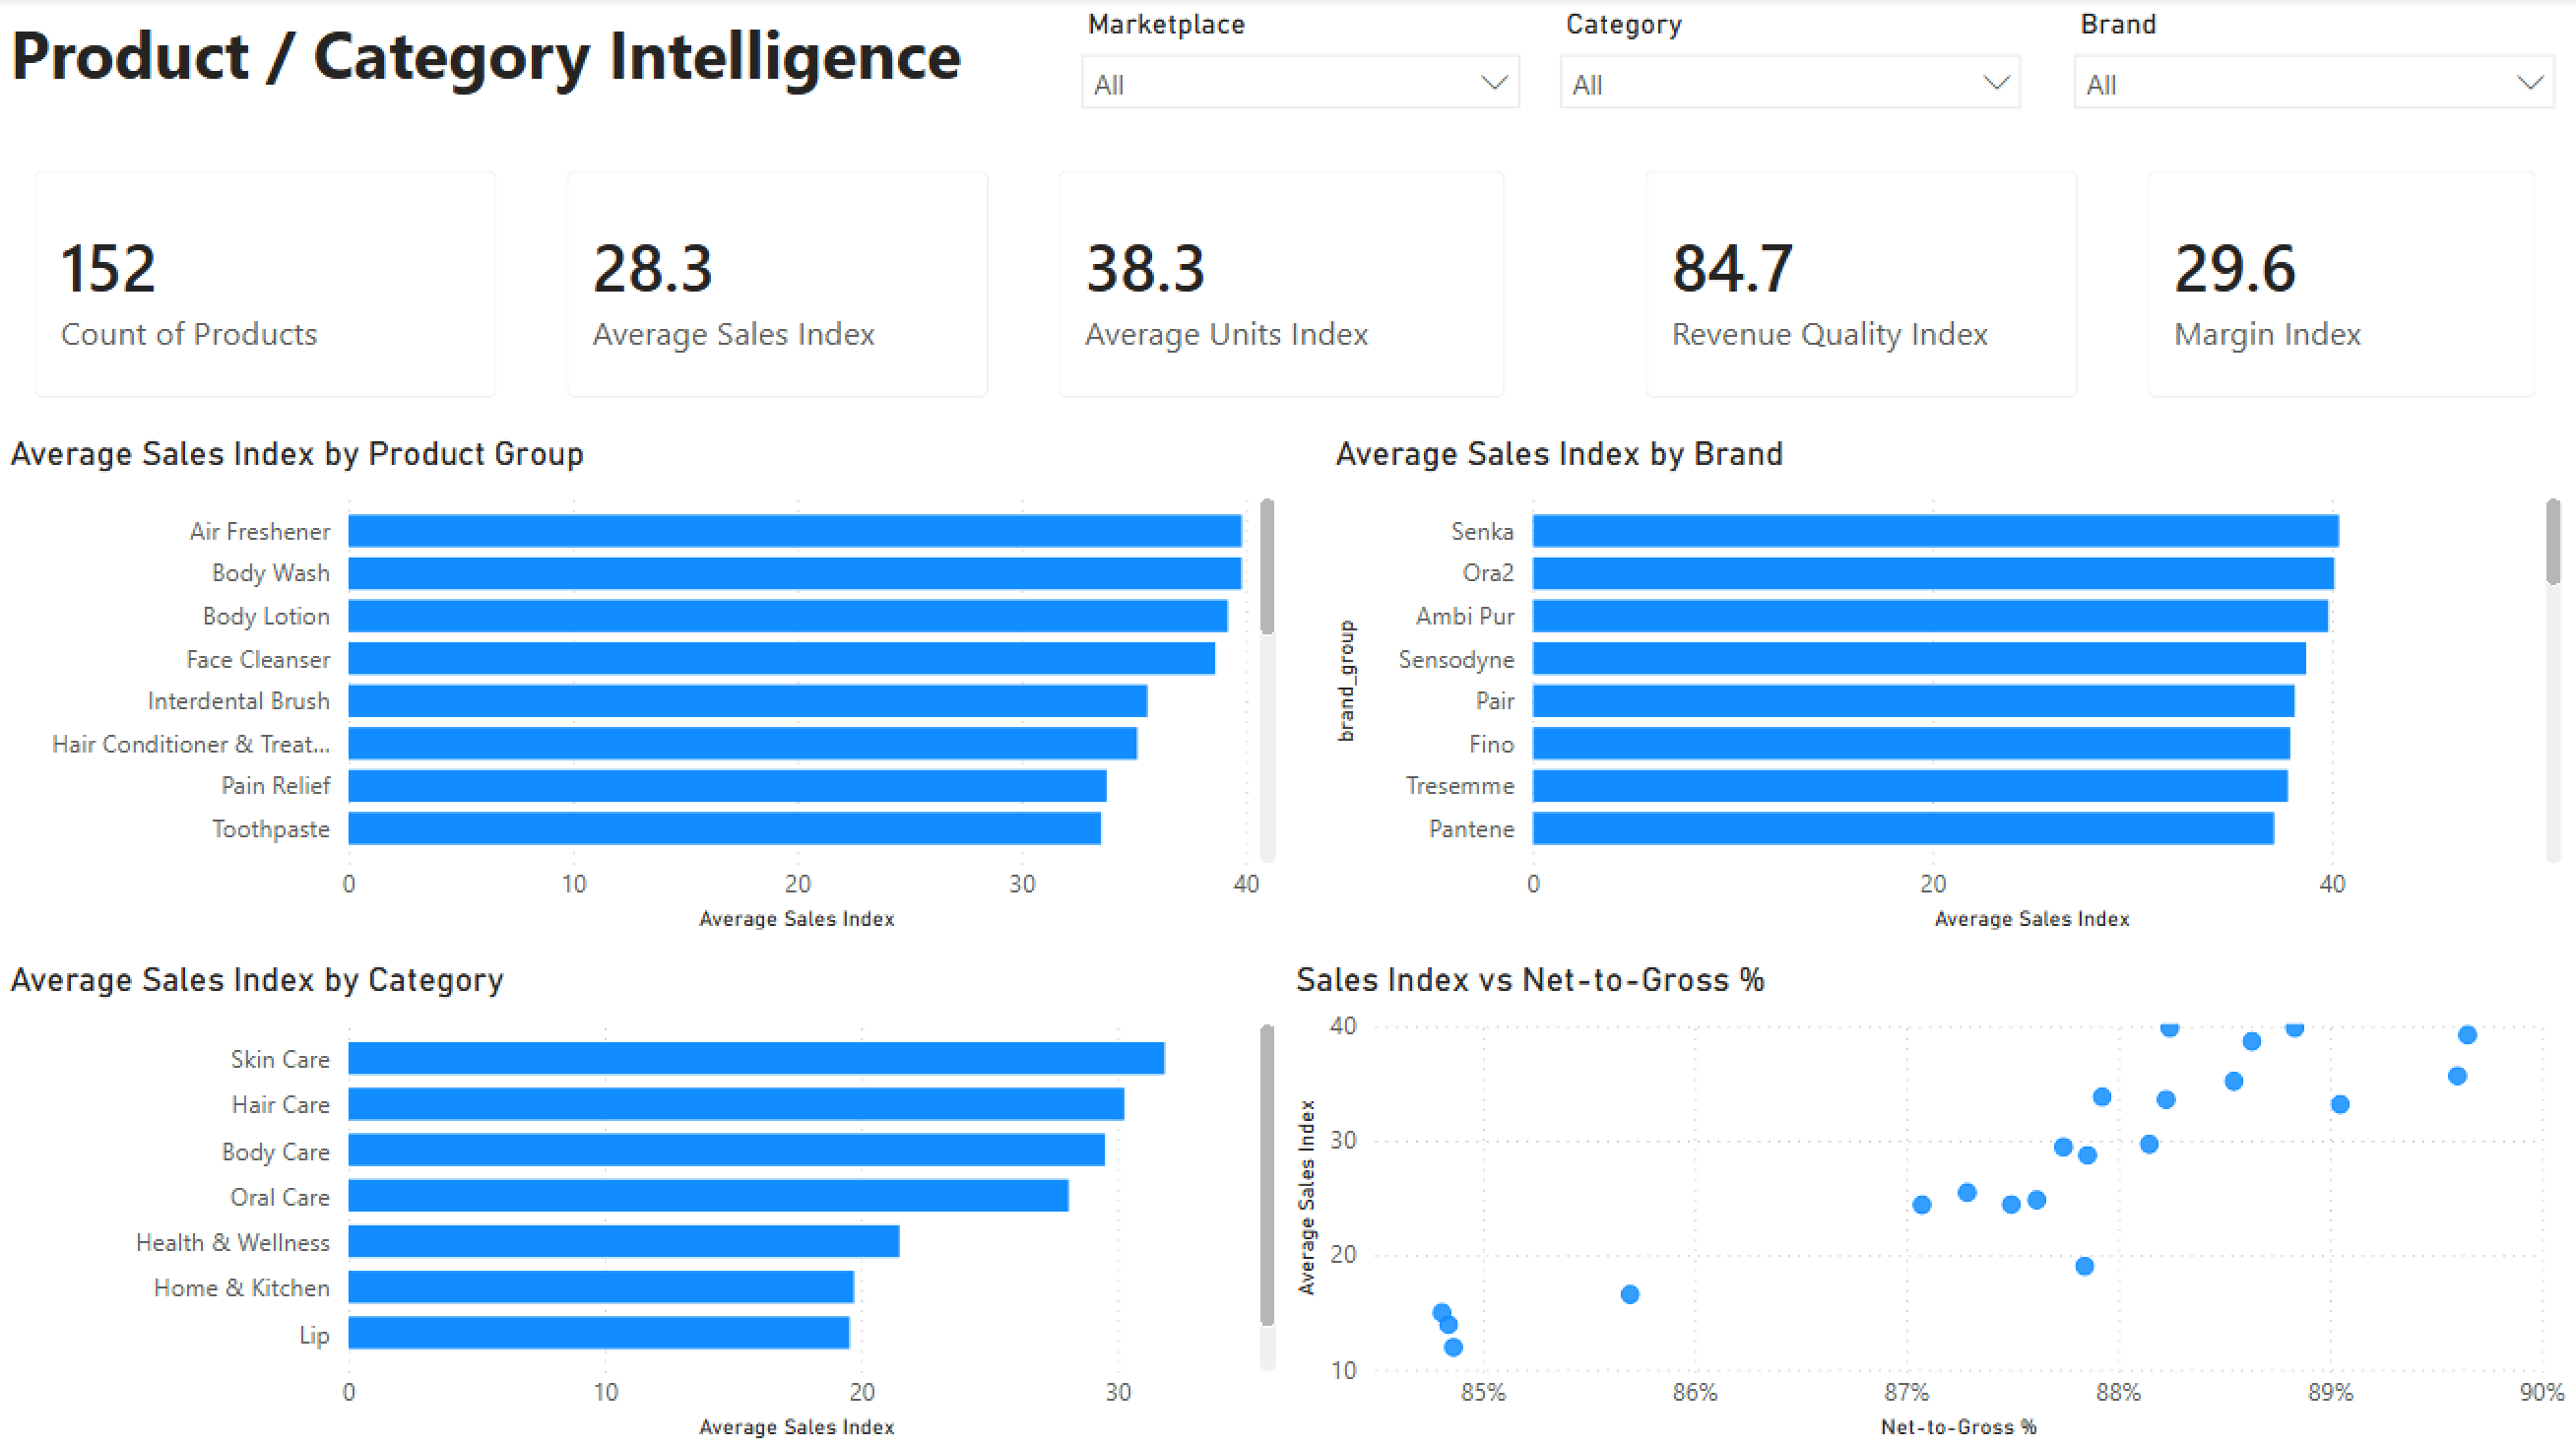

The dashboard page shown, as its layout file describes it:
{"tool":"powerbi","page":{"name":"Product / Category Intelligence","canvas":[1280,720],"ordinal":2},"visuals":[{"type":"textbox","box":[0,0,527.3,68.5],"z":0},{"type":"slicer","fields":{"Values":["DimMarketplace.marketplace"]},"box":[527.3,0,237.7,68.5],"z":1000},{"type":"slicer","fields":{"Values":["DimProduct.category_group"]},"box":[765,0,249.5,68.5],"z":2000},{"type":"slicer","fields":{"Values":["DimProduct.brand_group"]},"box":[1020.3,0,259.2,68.5],"z":3000},{"type":"cardVisual","fields":{"Data":["Measures (2).Count of Products"]},"box":[0,68.5,264.1,147.7],"z":4000},{"type":"cardVisual","fields":{"Data":["Measures (2).Average Sales Index"]},"box":[264.1,68.5,244.6,147.7],"z":5000},{"type":"cardVisual","fields":{"Data":["Measures (2).Average Units Index"]},"box":[508.7,68.5,256.3,147.7],"z":6000},{"type":"cardVisual","fields":{"Data":["Measures (2).Revenue Quality Score"]},"box":[800.2,68.5,249.5,147.7],"z":7000},{"type":"cardVisual","fields":{"Data":["Measures (2).Margin Index"]},"box":[1049.7,68.5,227.9,147.7],"z":8000},{"type":"clusteredBarChart","title":"Average Sales Index by Product Group","fields":{"Category":["DimProduct.product_group"],"Y":["Measures (2).Average Sales Index"]},"box":[0,216.2,638.8,251.4],"z":10000},{"type":"clusteredBarChart","title":"Average Sales Index by Category","fields":{"Category":["DimProduct.category_group"],"Y":["Measures (2).Average Sales Index"]},"box":[0,477.4,638.8,242.6],"z":11000},{"type":"scatterChart","title":"Sales Index vs Net-to-Gross %","fields":{"X":["Measures (2).Net-to-Gross %"],"Y":["Measures (2).Average Sales Index"],"Category":["DimProduct.product_group"]},"box":[638.8,477.4,640.8,242.6],"z":12000},{"type":"clusteredBarChart","title":"Average Sales Index by Brand","fields":{"Category":["DimProduct.brand_group"],"Y":["Measures (2).Average Sales Index"]},"box":[658.4,216.2,619.2,251.4],"z":13000}]}

Visuals, with their boxes in screenshot pixels (x1, y1, x2, y2), scaled from the page's 1280x720 canvas onto the 2576x1448 screenshot:
textbox: left=0, top=0, right=1062, bottom=138
slicer - DimMarketplace.marketplace: left=1062, top=0, right=1539, bottom=138
slicer - DimProduct.category_group: left=1539, top=0, right=2041, bottom=138
slicer - DimProduct.brand_group: left=2053, top=0, right=2575, bottom=138
cardVisual - Measures (2).Count of Products: left=0, top=138, right=532, bottom=434
cardVisual - Measures (2).Average Sales Index: left=532, top=138, right=1024, bottom=434
cardVisual - Measures (2).Average Units Index: left=1024, top=138, right=1539, bottom=434
cardVisual - Measures (2).Revenue Quality Score: left=1610, top=138, right=2112, bottom=434
cardVisual - Measures (2).Margin Index: left=2112, top=138, right=2571, bottom=434
"Average Sales Index by Product Group" clusteredBarChart: left=0, top=434, right=1286, bottom=941
"Average Sales Index by Category" clusteredBarChart: left=0, top=960, right=1286, bottom=1447
"Sales Index vs Net-to-Gross %" scatterChart: left=1286, top=960, right=2575, bottom=1447
"Average Sales Index by Brand" clusteredBarChart: left=1325, top=434, right=2571, bottom=941
